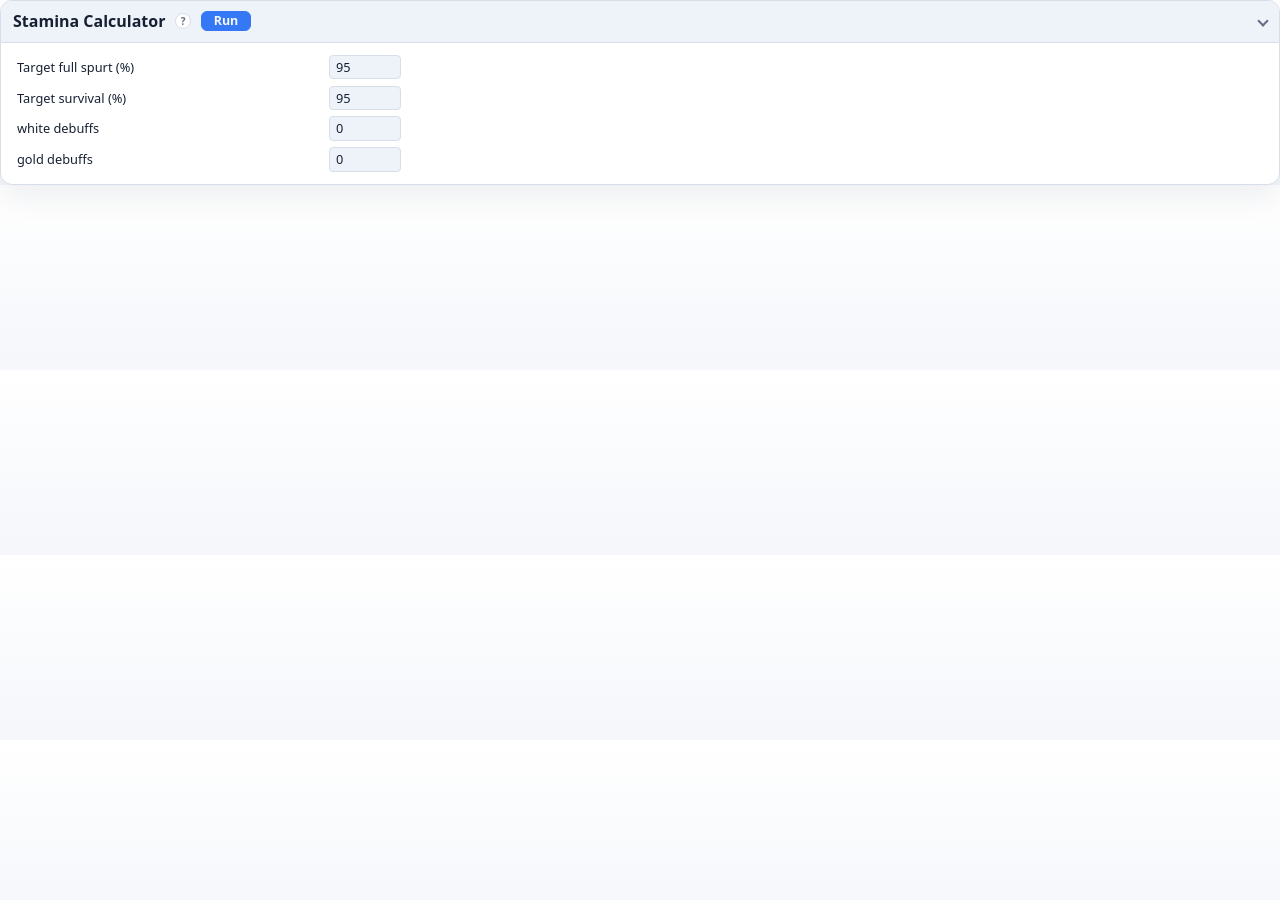
it: StaminaSpurtTab › shows a "Changed detected" prompt when an input changes after a run
Click the button "Run" at (226, 21), box [201,11,251,31]
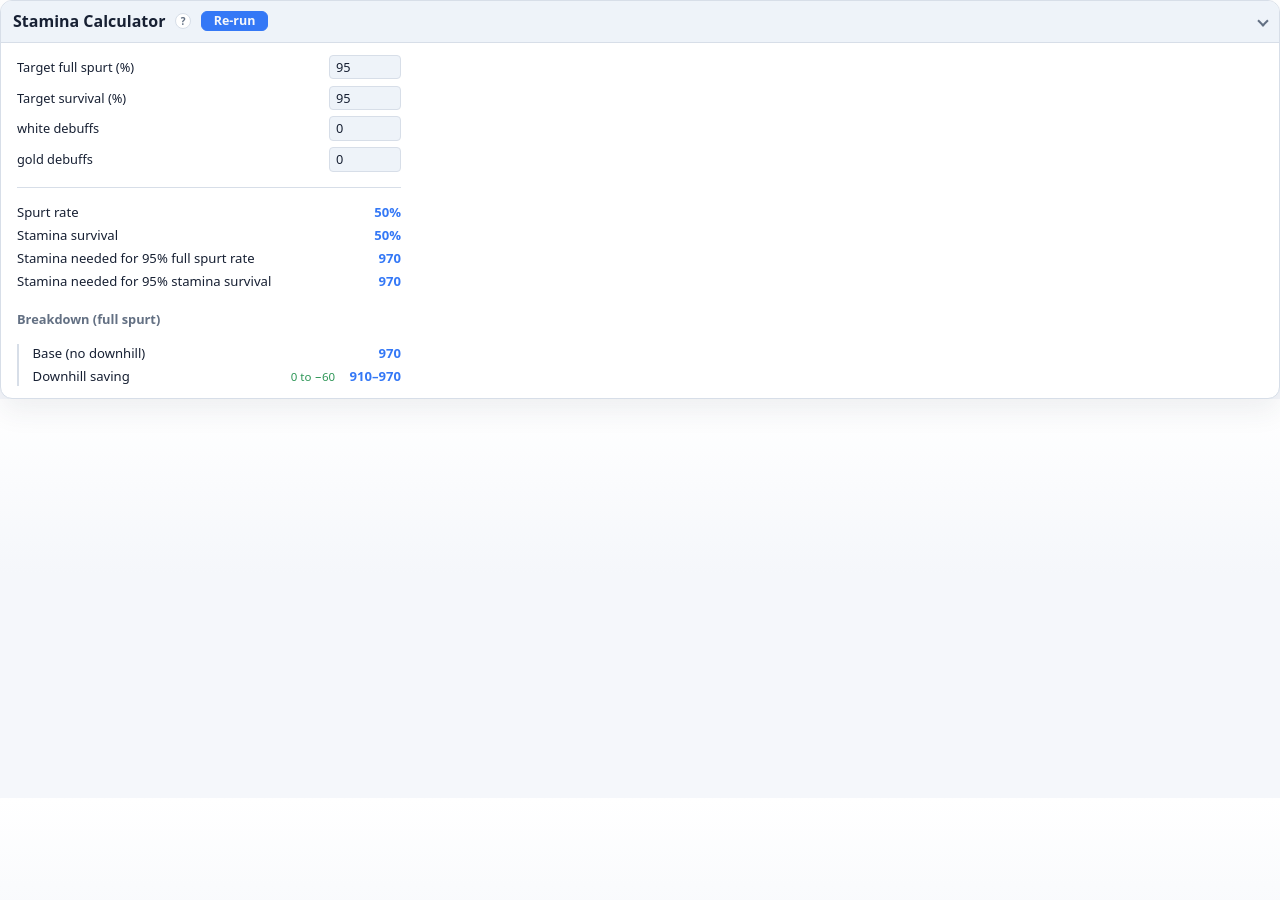
Expected: the text "Changed detected" is not shown
Result: the text "Spurt rate" is shown at [17,203,79,221]
Editing a target threshold makes the displayed result stale.
Replace the text in the number field named "full spurt rate" with "90" at (365, 67), box [329,55,401,79]
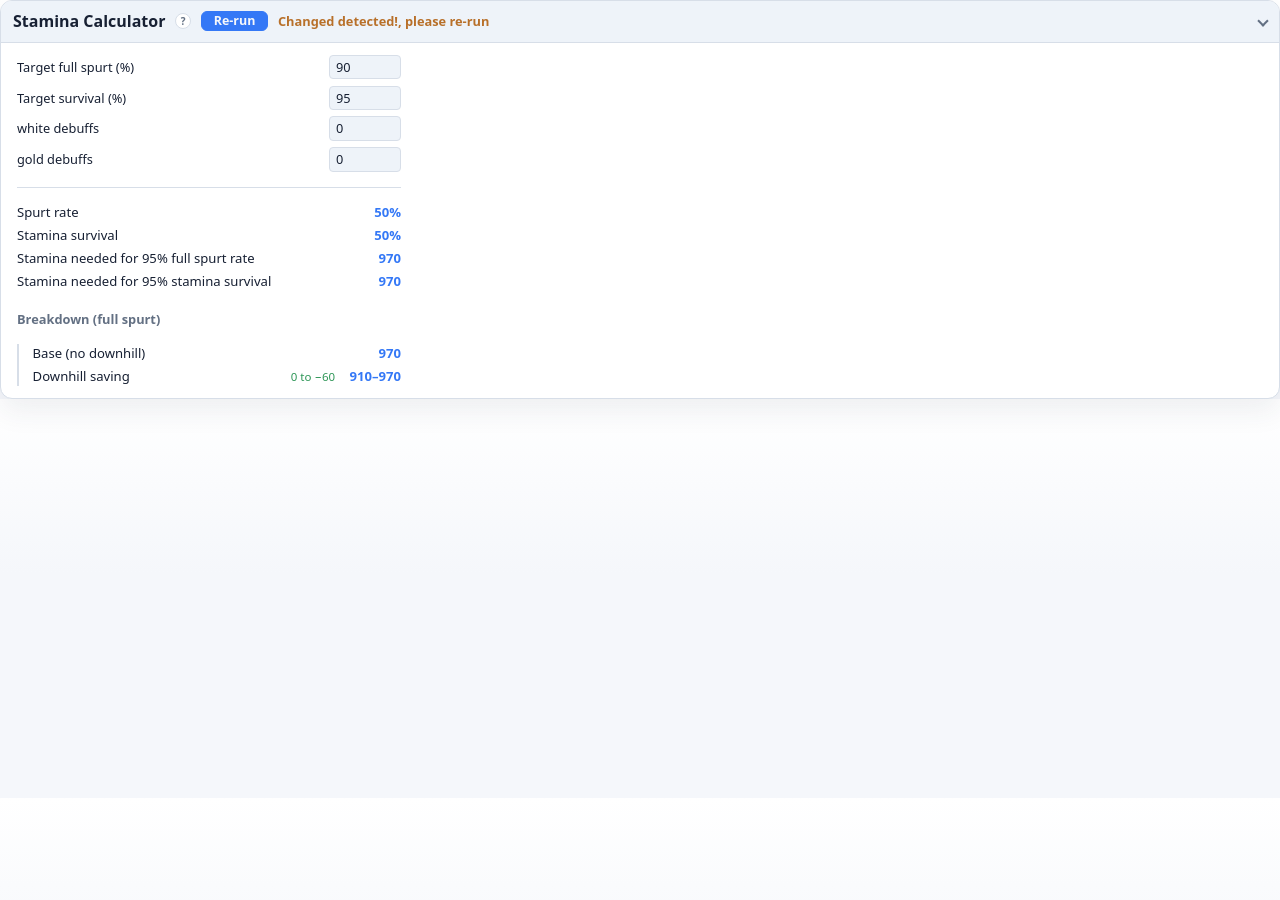
Result: the text "Changed detected!, please re-run" is shown at [278,14,489,28]
